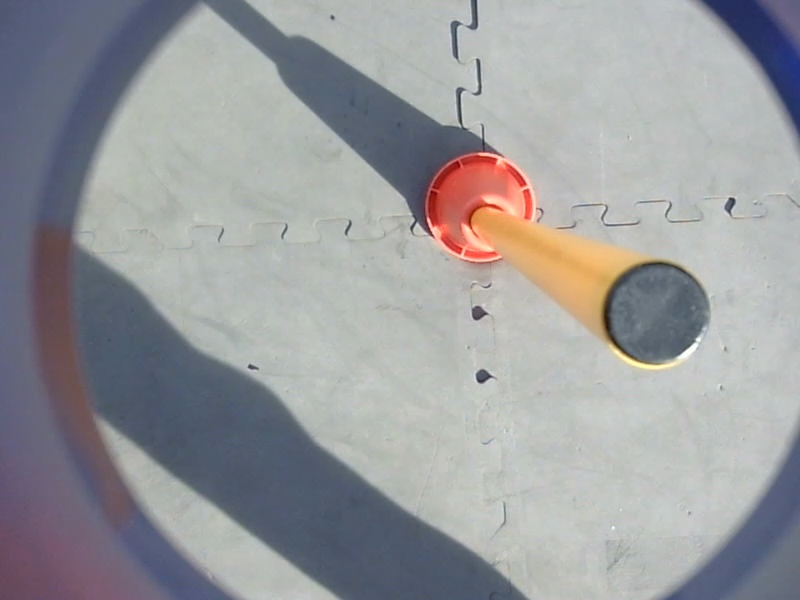tip: (594, 254, 718, 377)
